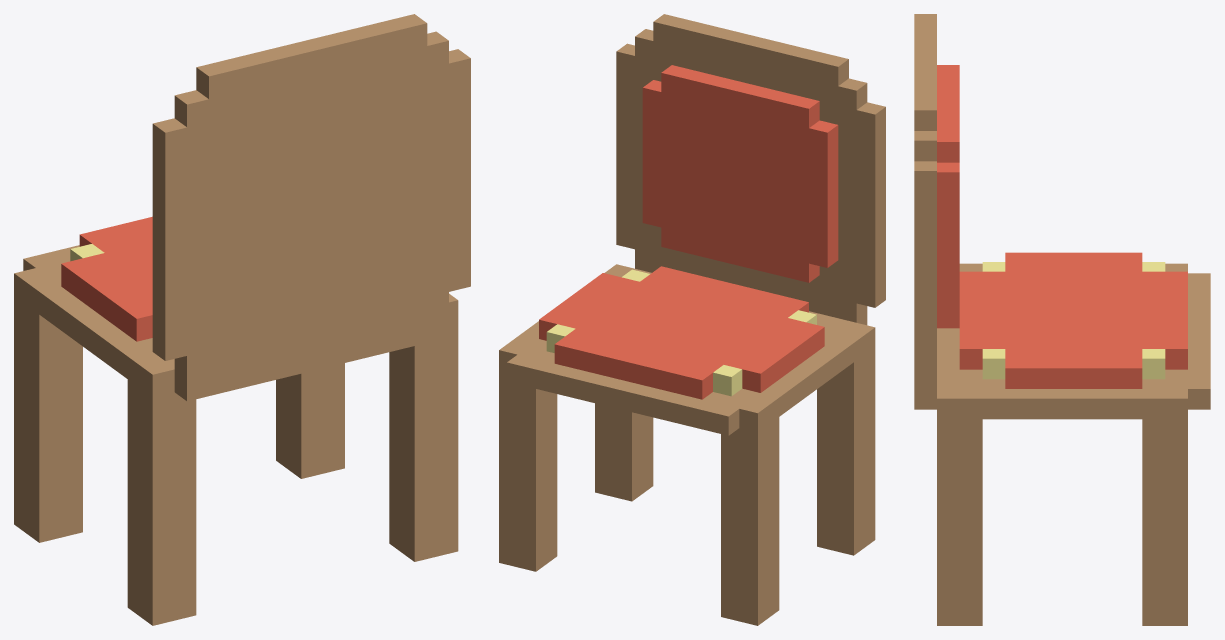
The model's file is Cadeira B.obj.
3 views of the same model, side by side, from view 1: azimuth 30°, elevation 25°; view 2: azimuth 150°, elevation 25°; view 3: azimuth 270°, elevation 25° (orthographic). The views are drawn at different scales.
Parts seen in each view (by area): view 1: Model; view 2: Model; view 3: Model.
Part boxes in pixels (x1=…): Model: x1=14, y1=14, x2=470, y2=625; Model: x1=499, y1=14, x2=885, y2=625; Model: x1=914, y1=14, x2=1210, y2=625.
Size of the model in its own units: 18.67 by 32 by 17.33.
Materials: 1 (1 with a texture image).
